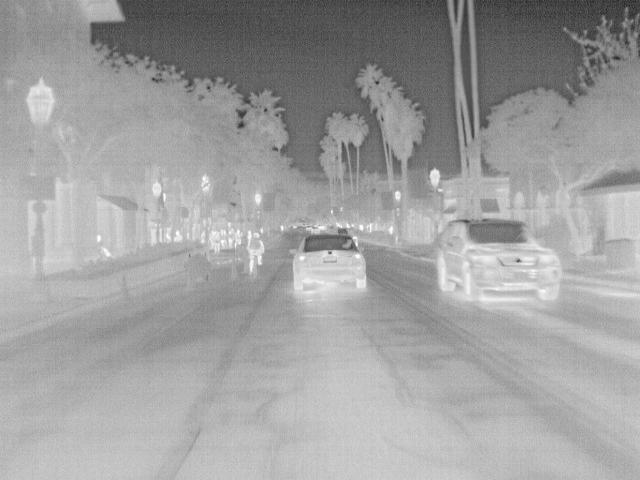car: (434, 218, 563, 300), (290, 234, 369, 292), (338, 224, 359, 247)
person: (247, 231, 267, 268), (170, 230, 184, 244)
